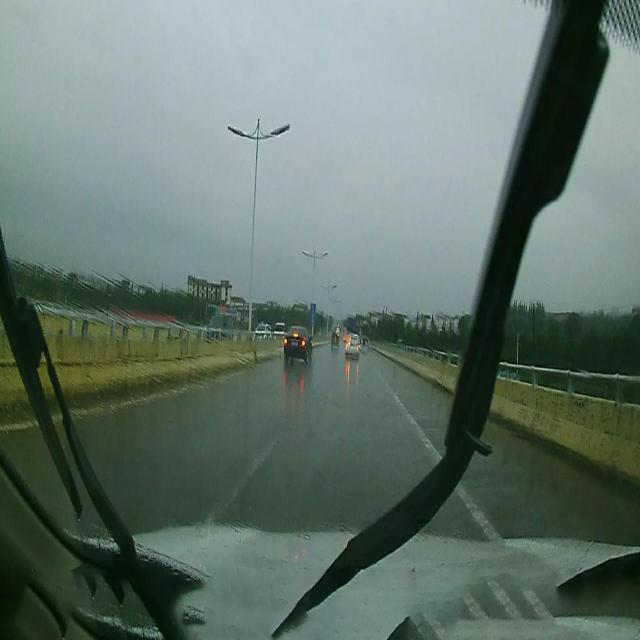car: (282, 320, 314, 363), (344, 332, 362, 360)
